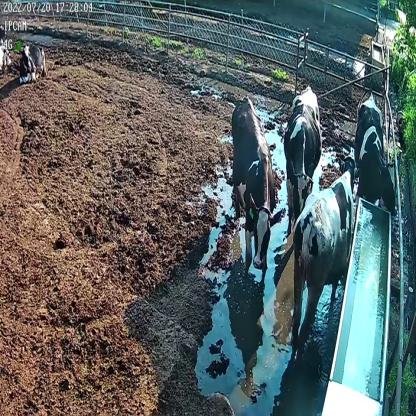cow: (293, 150, 359, 332), (230, 92, 287, 271), (282, 83, 322, 230), (355, 89, 398, 219), (16, 40, 48, 82)
